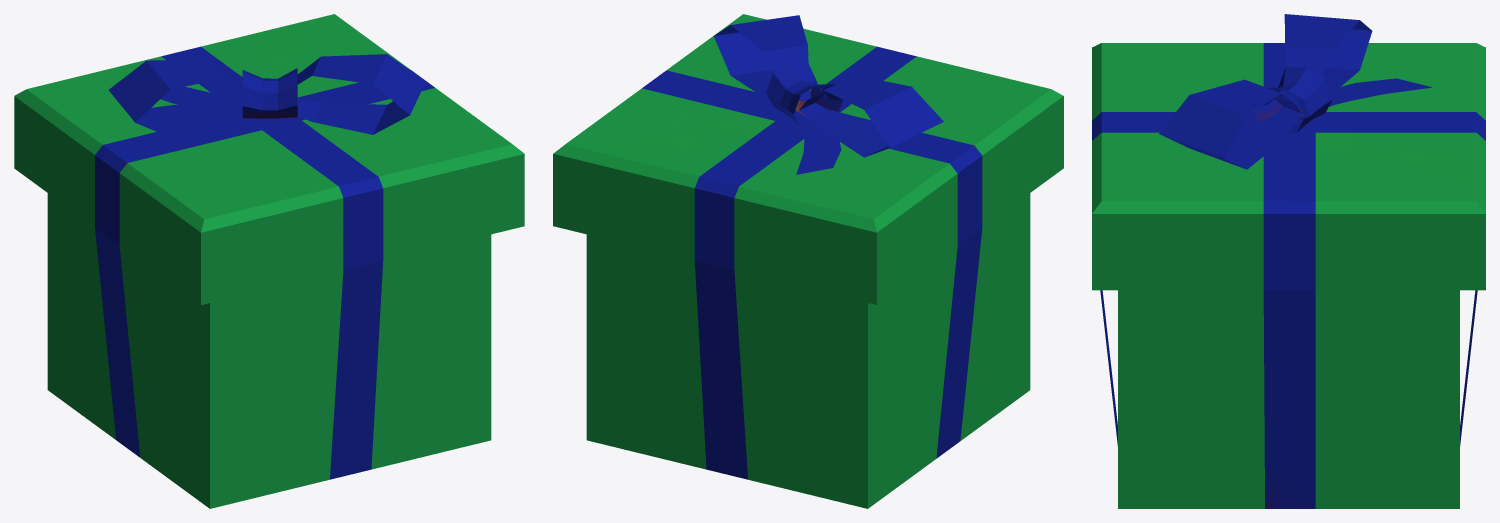
The model's file is gift_green.glb.
The picture shows the model from 3 angles, left to right: view 1: azimuth 30°, elevation 25°; view 2: azimuth 150°, elevation 25°; view 3: azimuth 270°, elevation 25°; orthographic projection. The views are drawn at different scales.
Parts seen in each view (by area): view 1: Gift; view 2: Gift; view 3: Gift.
Part boxes in pixels (box(x1,y1,x2,y2)): Gift: box(14, 14, 524, 508); Gift: box(553, 14, 1063, 508); Gift: box(1092, 14, 1485, 508).
Bounding box in the file's own units: 0.3718 × 0.3861 × 0.3718.
Materials: 1 (1 with a texture image).
